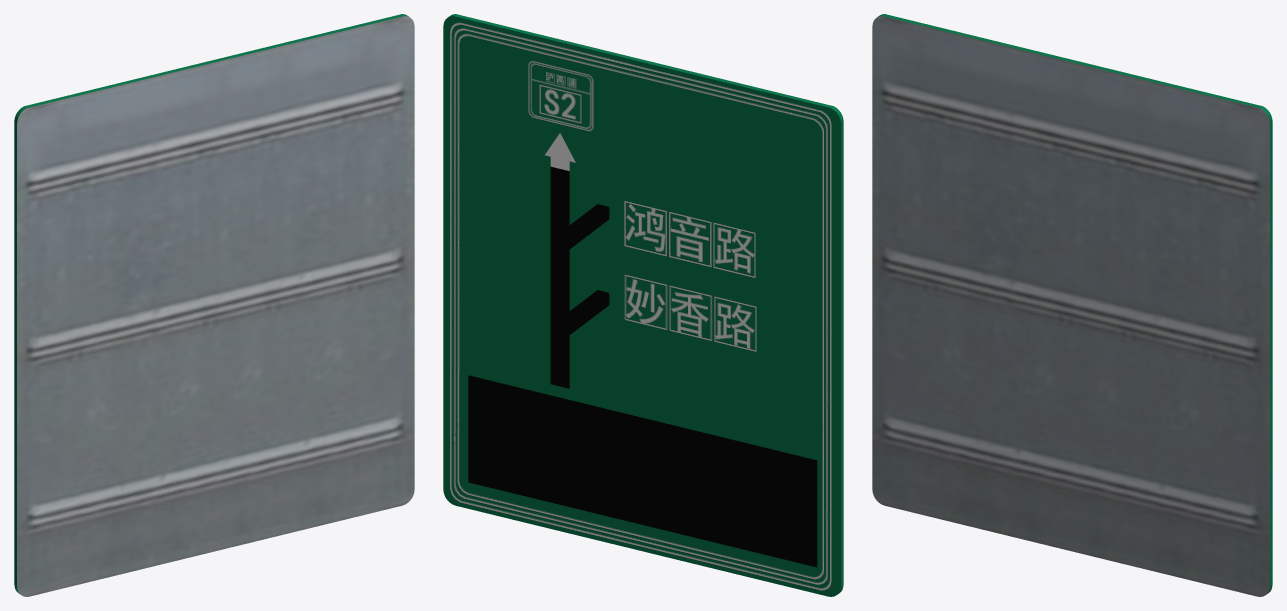
File: board_t0_s2_3.gltf
3 views of the same model, side by side, from view 1: azimuth 30°, elevation 25°; view 2: azimuth 150°, elevation 25°; view 3: azimuth 330°, elevation 25° (orthographic).
Visible parts, largest first — view 1: board_t0_s2_3; view 2: board_t0_s2_3; view 3: board_t0_s2_3.
Part boxes in pixels (box(x1,y1,x2,y2)): board_t0_s2_3: box(14, 14, 414, 596); board_t0_s2_3: box(443, 14, 843, 596); board_t0_s2_3: box(872, 14, 1272, 596).
Bounding box in the file's own units: 2.01 × 2.36 × 0.0242.
34 materials, 3 textured.
